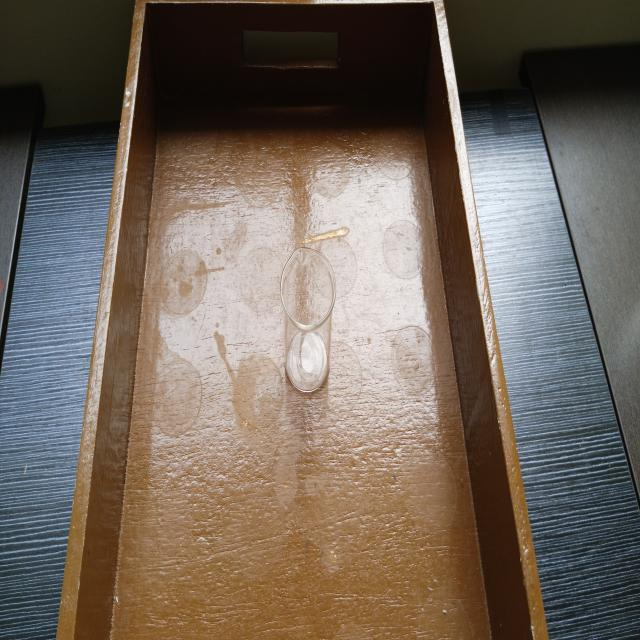beaker: (278, 241, 338, 398)
